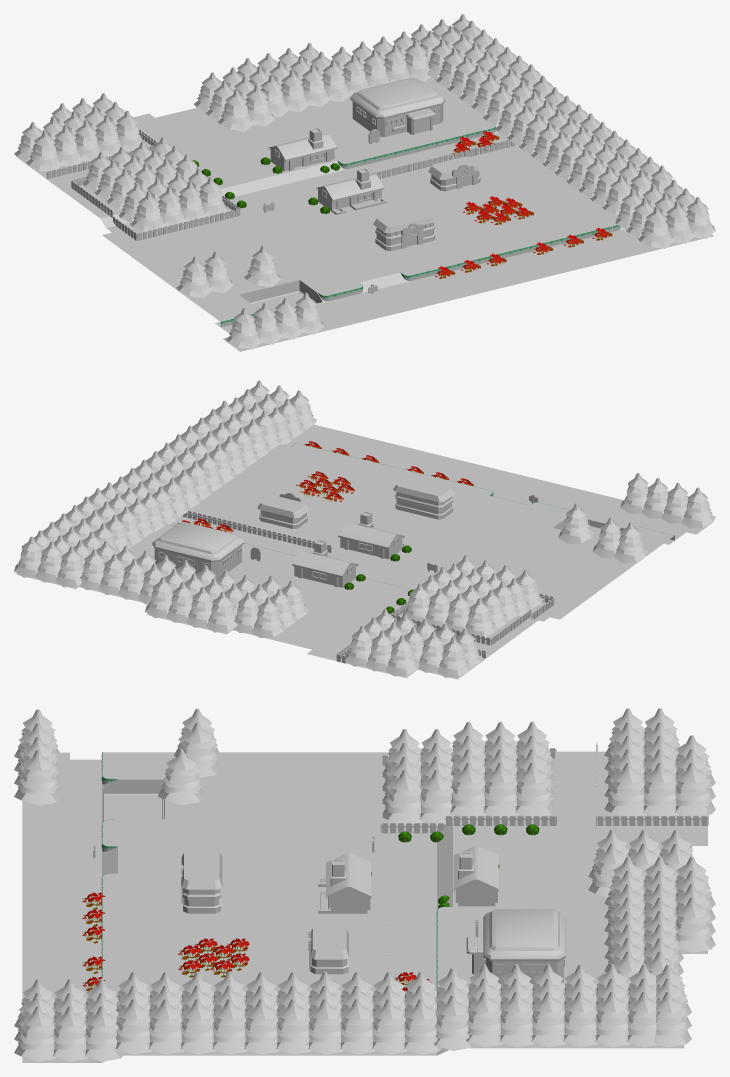
The model's file is virdian-town2.fbx.
3 renders of one model, top to bottom at view 1: azimuth 30°, elevation 25°; view 2: azimuth 150°, elevation 25°; view 3: azimuth 270°, elevation 25°, orthographic. The views are drawn at different scales.
Visible parts, largest first — view 1: fire_red_pokemon_center; view 2: fire_red_pokemon_center; view 3: fire_red_pokemon_center.
Boxes of the visible parts, x1=… form: fire_red_pokemon_center: x1=14, y1=14, x2=715, y2=351; fire_red_pokemon_center: x1=14, y1=380, x2=715, y2=679; fire_red_pokemon_center: x1=14, y1=708, x2=715, y2=1062.
Bounding box in the file's own units: 9436 × 988 × 8802.
